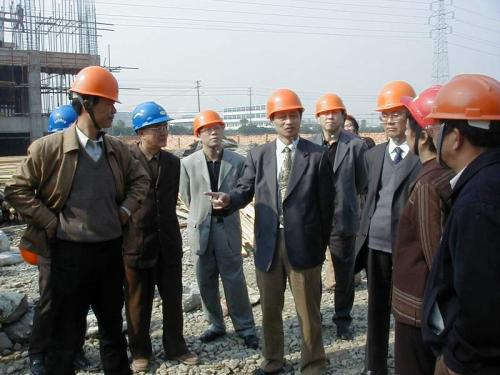helmet: (430, 73, 497, 170), (70, 62, 123, 131), (375, 78, 417, 143), (129, 97, 173, 154), (264, 84, 307, 142), (405, 83, 439, 153), (47, 103, 88, 153), (193, 105, 228, 155), (314, 90, 347, 137)
